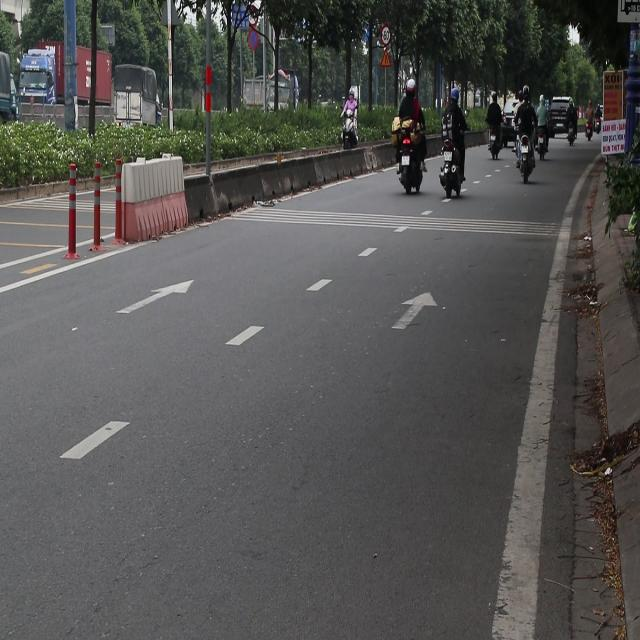car: (495, 89, 534, 137), (550, 94, 574, 140)
motorbike: (393, 124, 426, 196), (333, 98, 362, 176), (440, 142, 466, 200), (518, 134, 539, 198), (488, 120, 504, 157), (566, 128, 580, 152)
truck: (15, 44, 113, 142), (234, 55, 302, 149), (109, 63, 167, 146)
